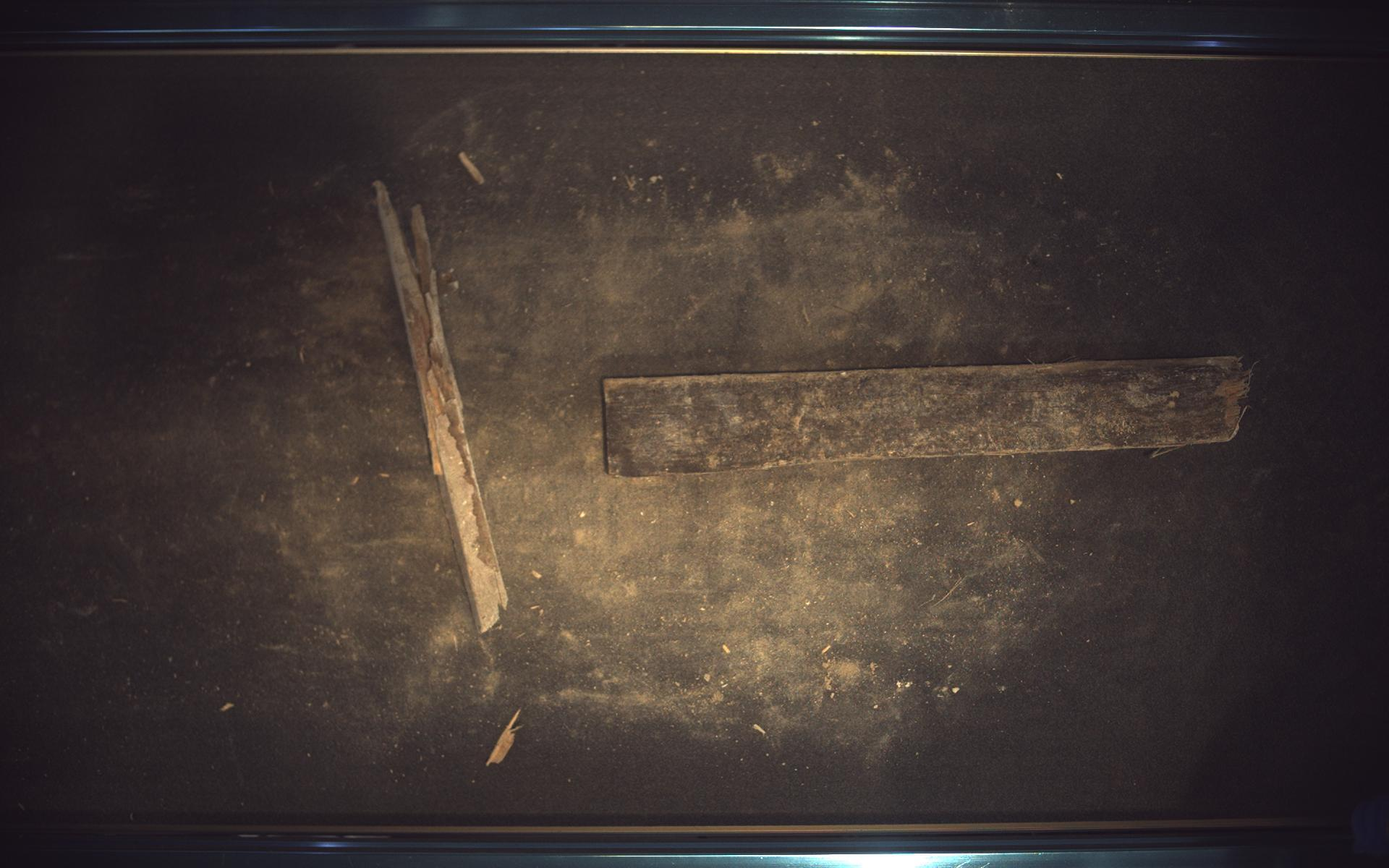wood: (606, 357, 1252, 477), (373, 180, 508, 634)
